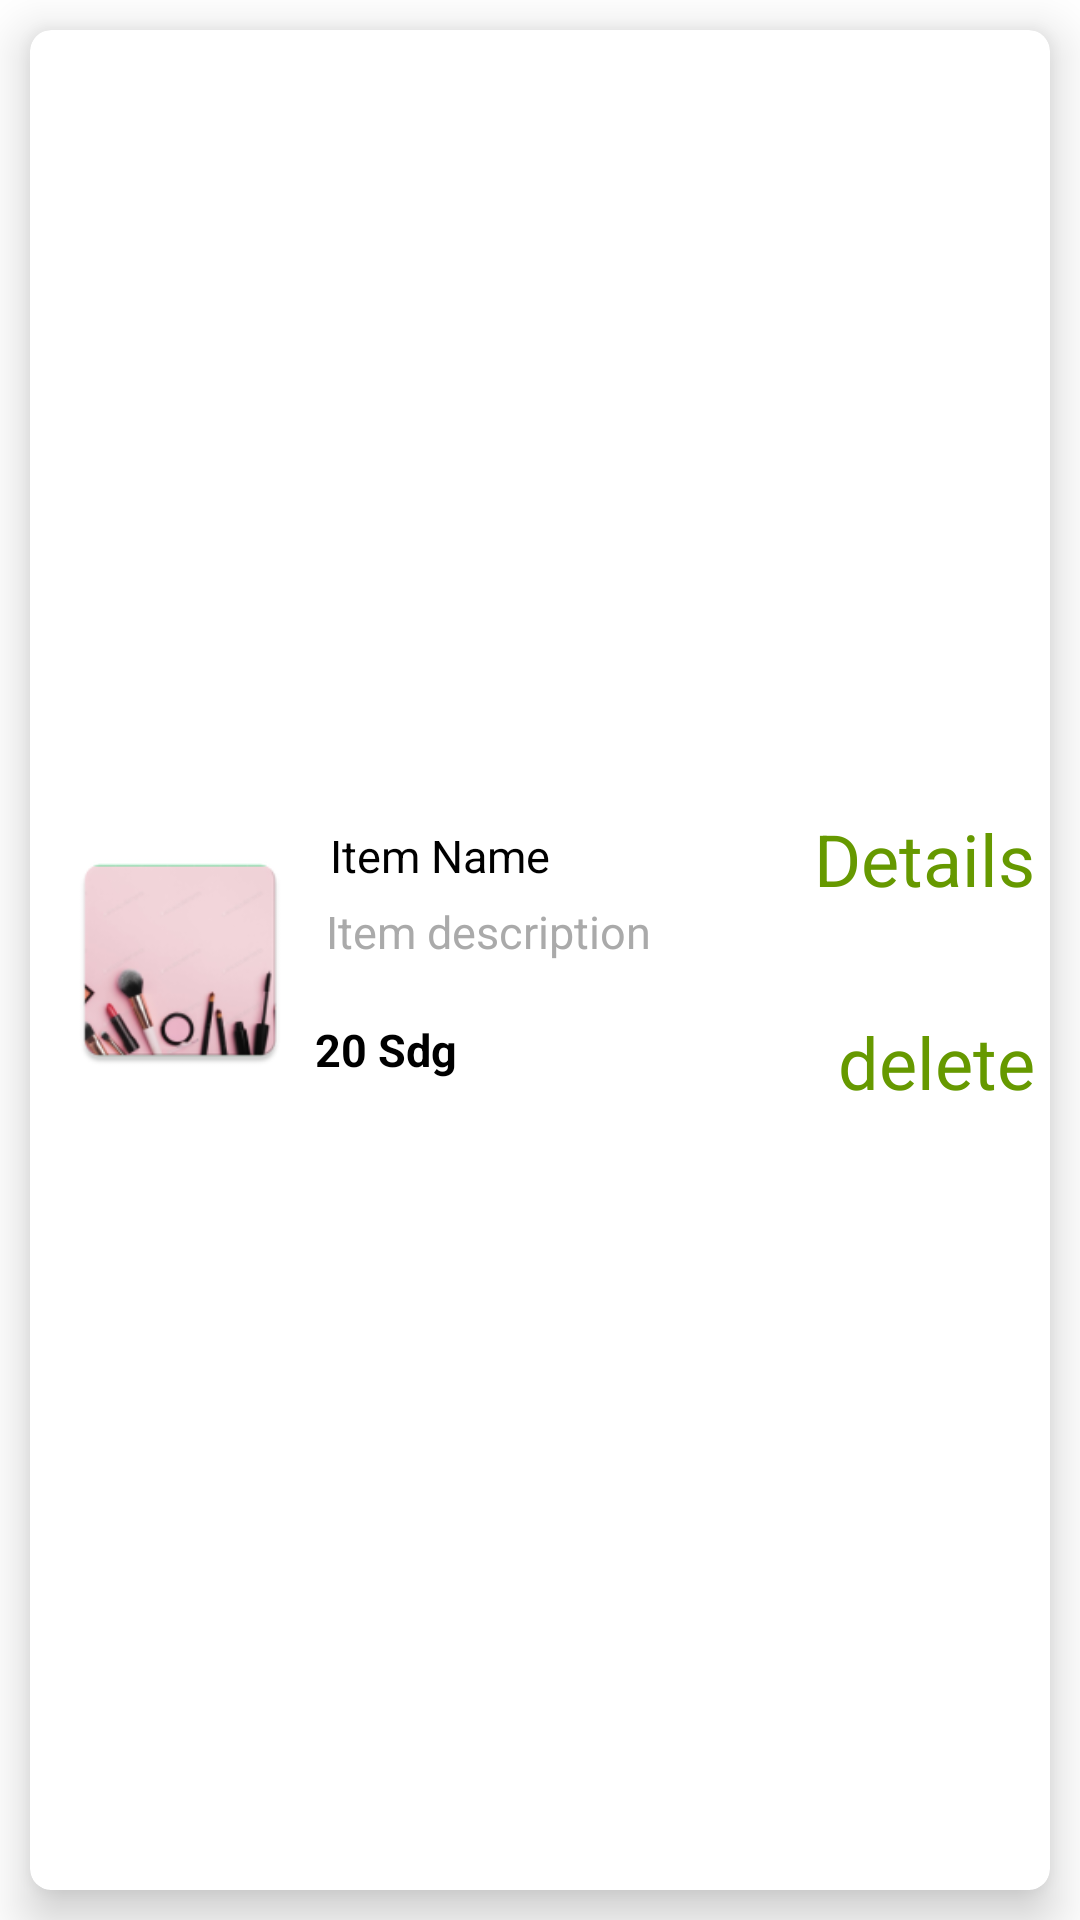

Named icons in this screenshot (1080 x 1920) and their centers, point (x, y):
cosmetic pic: point (180, 962)
